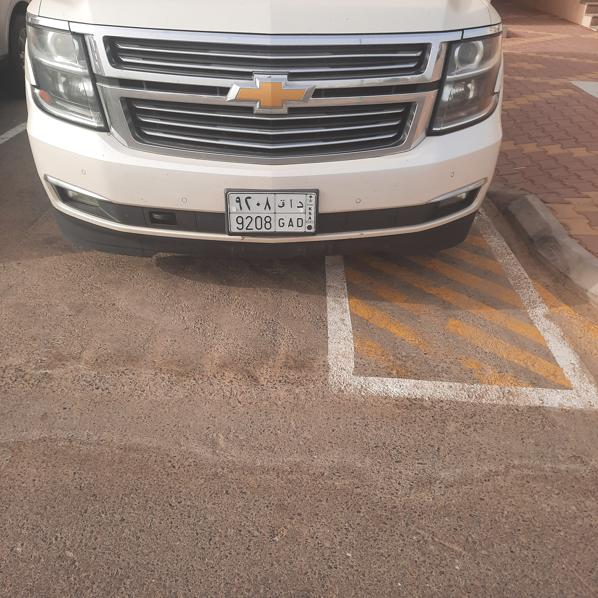numberplate: (229, 193, 316, 232)
